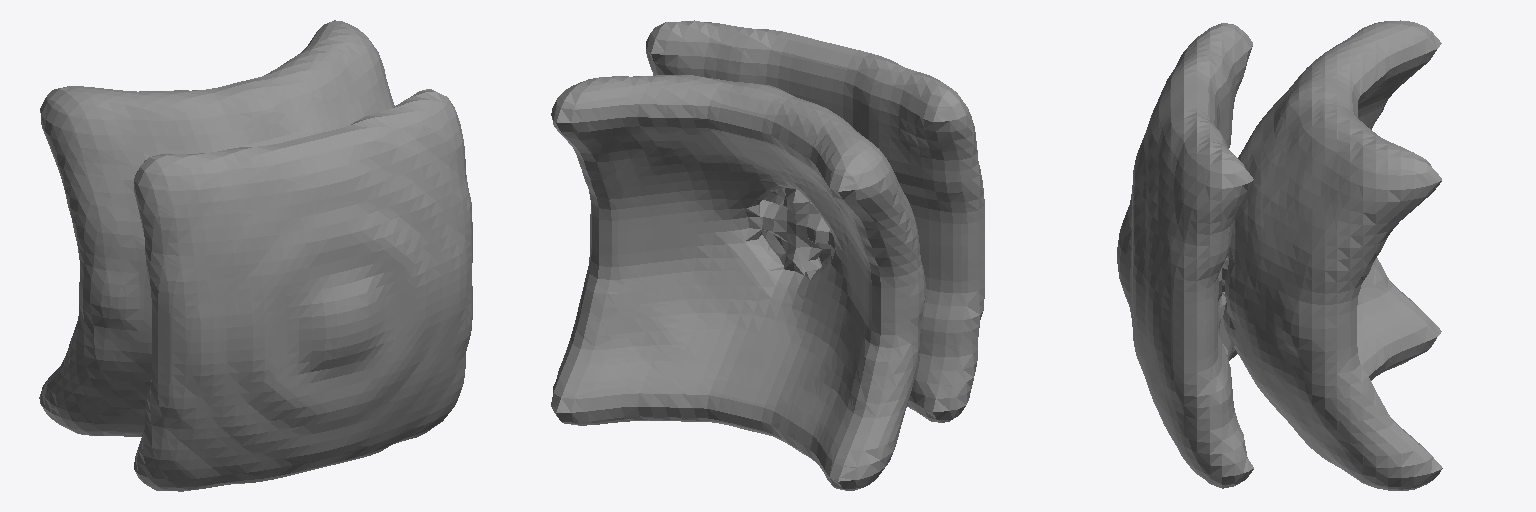
robot.urdf — cube.urdf:
<?xml version="0.0" ?> 
<robot name="cube.urdf"> 
<link name="legobrick"> 
<contact> 
<lateral_friction value="5.0"/> 
<rolling_friction value="0.0"/> 
<contact_cfm value="0.0"/> 
<contact_erp value="1.0"/> 
</contact> 
<inertial> 
<origin rpy="0 0 0" xyz="0.0 0.0 0.0"/> 
<mass value=".01"/> 
<inertia ixx="1" ixy="0" ixz="0" iyy="1" iyz="0" izz="1"/> 
</inertial> 
<visual> 
<origin rpy="1.570796 0 0" xyz="-0.0258684066928943 0.029205307385163908 -0.02584499461787328"/> 
<geometry> 
<mesh filename="P10_2.obj" scale="0.0006071493509420406 0.0006071493509420406 0.0006071493509420406"/> 
</geometry> 
<material name="yellow"> 
<color rgba="0.6 0.6 0.6 1"/> 
</material> 
</visual> 
<collision> 
<origin rpy="1.570796 0 0" xyz="-0.0258684066928943 0.029205307385163908 -0.02584499461787328"/> 
<geometry> 
<mesh filename="P10_2.obj" scale="0.0006071493509420406 0.0006071493509420406 0.0006071493509420406"/> 
</geometry> 
</collision> 
</link> 
</robot>

--- Render facts (derived) ---
3 views of the same robot in one strip: view 1: azimuth 30°, elevation 25°; view 2: azimuth 150°, elevation 25°; view 3: azimuth 270°, elevation 25° (orthographic).
Model cube.urdf with 1 links and 0 joints (none), rooted at legobrick, posed all joints at 0.
Visible links, largest first — view 1: legobrick; view 2: legobrick; view 3: legobrick.
Link boxes in pixels (x1,y1,x2,y2): legobrick: (39, 20, 472, 491); legobrick: (551, 20, 984, 490); legobrick: (1117, 20, 1442, 490).
Bounding box of the posed robot: 0.0562 × 0.0486 × 0.056 m (x, y, z).
Meshes: 1 distinct files referenced, 1 mesh visuals loaded (1 OBJ).
